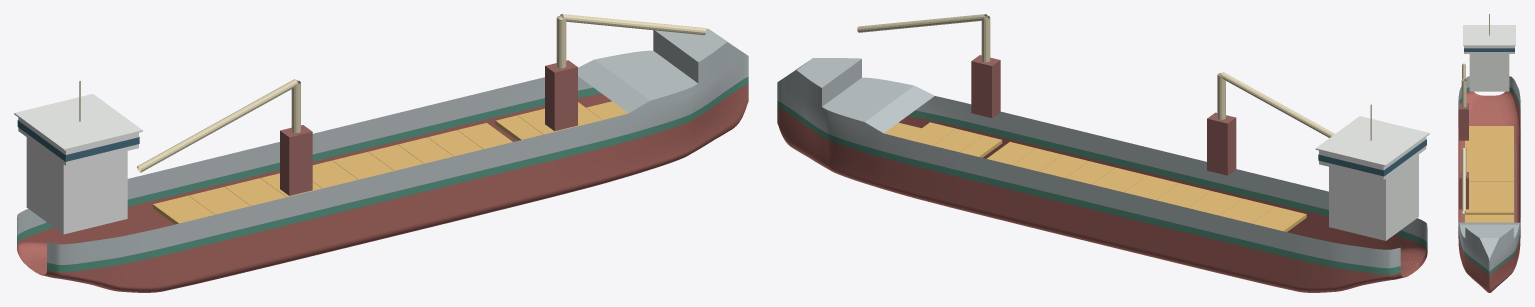
Rendered from vectis-castle-apples.gltf.
3 renders of one model, left to right at view 1: azimuth 30°, elevation 25°; view 2: azimuth 150°, elevation 25°; view 3: azimuth 270°, elevation 25°, orthographic. The views are drawn at different scales.
Parts seen in each view (by area): view 1: Approximate hull - Antifouling, Approximate hull - Grey topsides, Approximate hull - Green paint band, Separate forecastle and angular cross-bow, Aft accommodation, Roof, Aft crane pedestal, Forward crane pedestal, Aft crane stowed boom, Forward crane stowed boom, Wheelhouse, A-6 (+13 smaller); view 2: Approximate hull - Antifouling, Approximate hull - Grey topsides, Approximate hull - Green paint band, Separate forecastle and angular cross-bow, Aft accommodation, Roof, Aft crane pedestal, Forward crane pedestal, Forward crane stowed boom, Aft crane stowed boom, Wheelhouse, A-6 (+14 smaller); view 3: Approximate hull - Antifouling, Separate forecastle and angular cross-bow, Aft accommodation, Roof, Approximate hull - Grey topsides, A-4, A-3, A-2, A-5, B-3, A-6, A-1 (+14 smaller).
Part boxes in pixels (x1,y1,x2,y2): Approximate hull - Antifouling: (17,84,748,292); Approximate hull - Grey topsides: (17,56,748,264); Approximate hull - Green paint band: (17,77,748,272); Separate forecastle and angular cross-bow: (578,28,747,113); Aft accommodation: (26,137,127,234); Roof: (14,94,142,150); Aft crane pedestal: (280,125,312,195); Forward crane pedestal: (545,60,577,131); Aft crane stowed boom: (137,79,297,172); Forward crane stowed boom: (559,14,706,35); Wheelhouse: (18,117,138,165); A-6: (153,195,214,224); Approximate hull - Antifouling: (777,107,1427,292); Approximate hull - Grey topsides: (777,82,1427,268); Approximate hull - Green paint band: (777,101,1427,274); Separate forecastle and angular cross-bow: (777,58,934,133); Aft accommodation: (1329,154,1418,240); Roof: (1315,116,1429,166); Aft crane pedestal: (1207,112,1236,175); Forward crane pedestal: (971,55,1000,117); Forward crane stowed boom: (857,14,987,32); Aft crane stowed boom: (1220,72,1334,137); Wheelhouse: (1319,137,1426,179); A-6: (1252,206,1306,231); Approximate hull - Antifouling: (1458,91,1520,292); Separate forecastle and angular cross-bow: (1459,222,1519,260); Aft accommodation: (1469,54,1509,91); Roof: (1463,25,1515,45); Approximate hull - Grey topsides: (1458,76,1520,271); A-4: (1465,144,1513,153); A-3: (1466,154,1513,163); A-2: (1466,163,1513,172); A-5: (1465,135,1513,144); B-3: (1465,205,1513,214); A-6: (1469,126,1513,135); A-1: (1469,172,1513,181).
Bounding box in the file's own units: 123 × 34 × 17.41.
